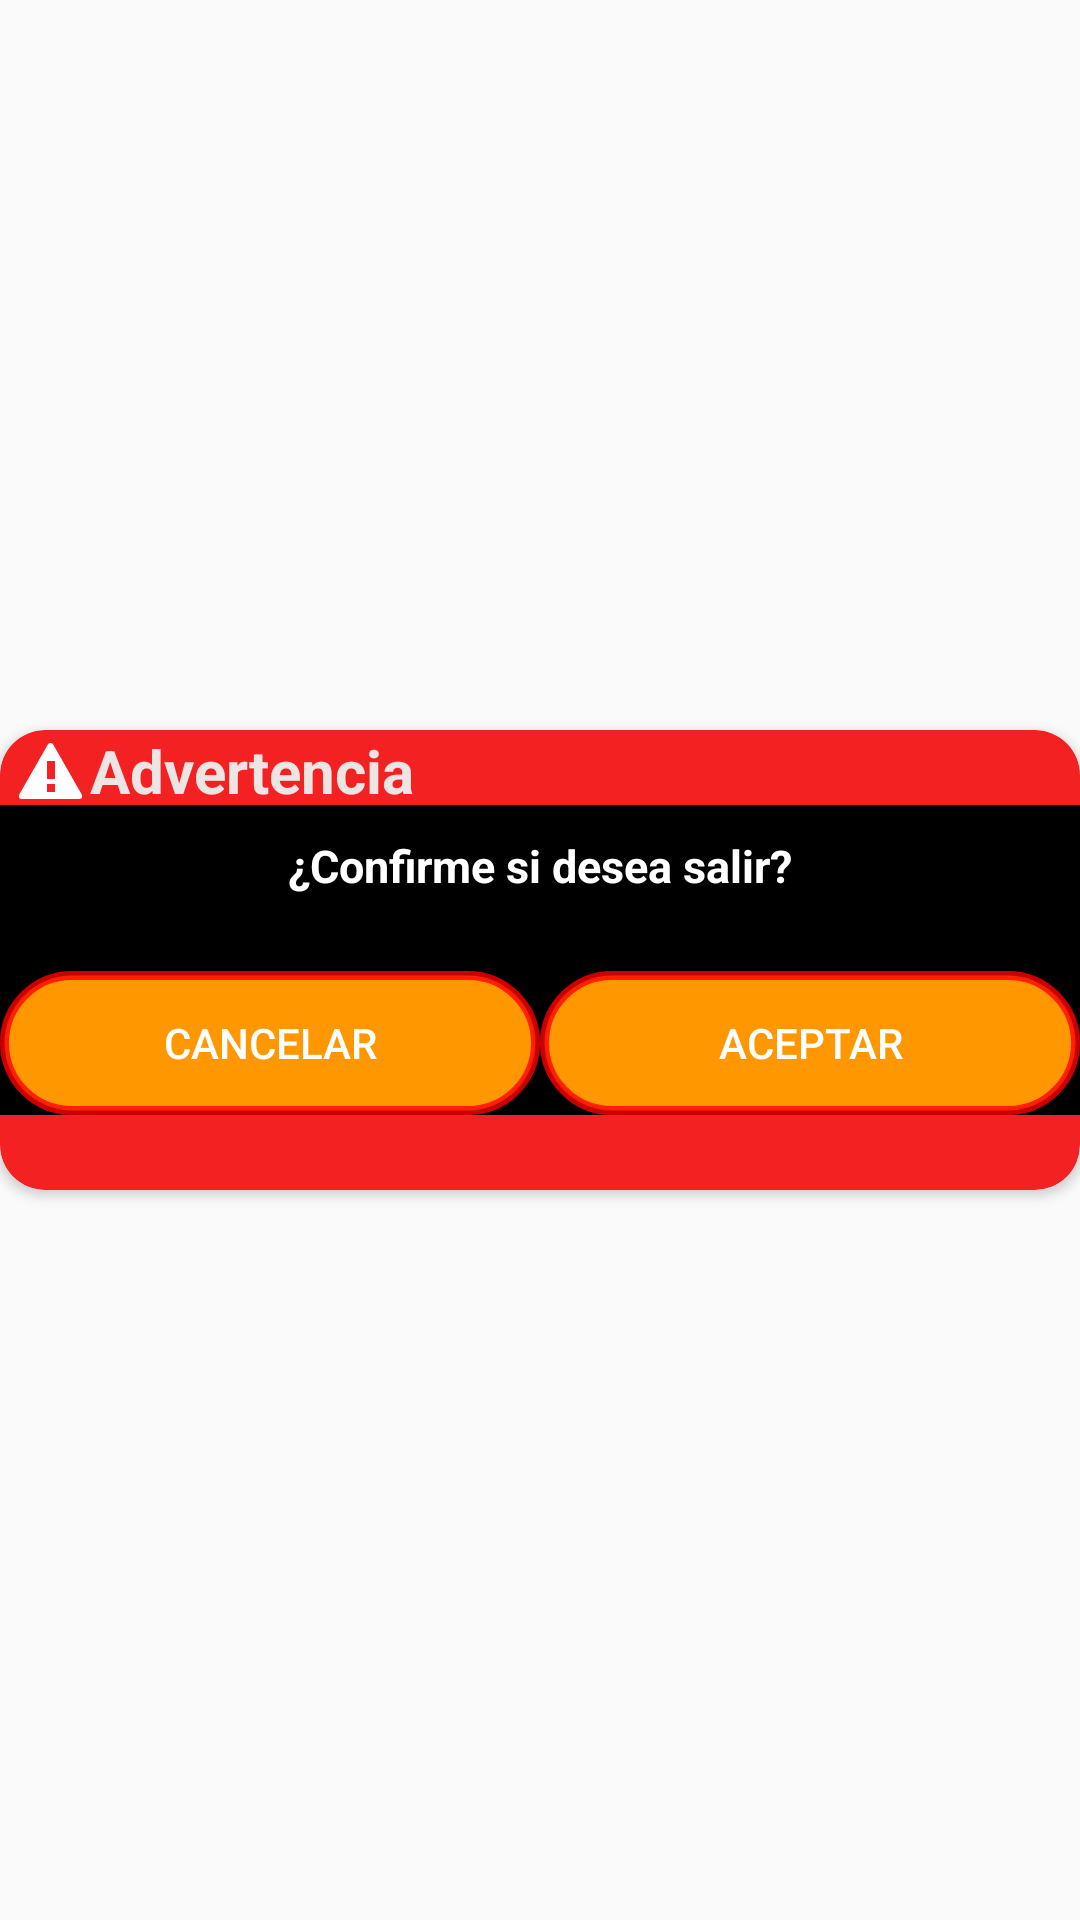

Icon click points for this 1080x1920 phone screenshot, format [x,y]:
warning: [43,772]
